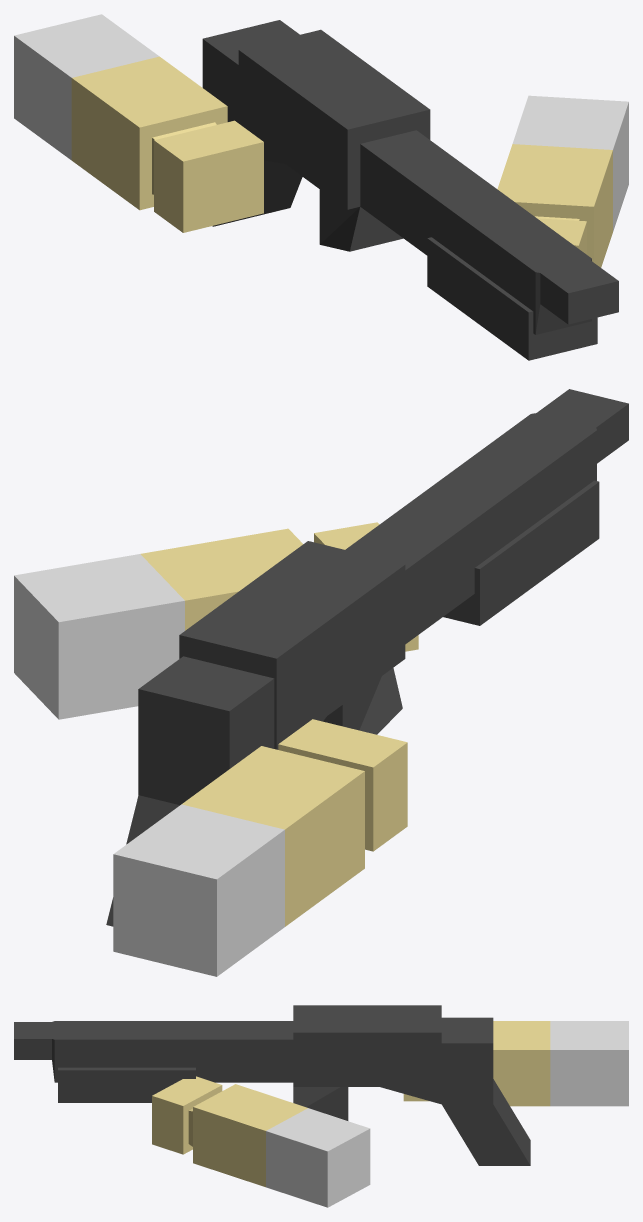
File: shotgun2.obj
The picture shows the model from 3 angles, top to bottom: view 1: azimuth 30°, elevation 25°; view 2: azimuth 150°, elevation 25°; view 3: azimuth 270°, elevation 25°; orthographic projection. The views are drawn at different scales.
Parts seen in each view (by area): view 1: cube3, cube5, cube4; view 2: cube5, cube3, cube4; view 3: cube3, cube5, cube4.
Boxes of the visible parts, <box> form: cube3: <box>202,20,618,334</box>; cube5: <box>14,14,628,267</box>; cube4: <box>427,237,597,360</box>; cube5: <box>14,522,418,976</box>; cube3: <box>106,389,628,926</box>; cube4: <box>443,480,599,625</box>; cube3: <box>14,1005,530,1165</box>; cube5: <box>152,1021,628,1207</box>; cube4: <box>58,1067,195,1102</box>.
Bounding box in the file's own units: 35.84 × 17.18 × 71.29.
3 materials, 3 textured.
